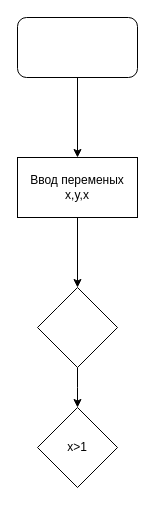
Image size: 155x505. Some labels were removed from this diagram. The centre of each missing label's shape, as x and y in pixels:
x>y: (77,327)
Начало: (77,47)
